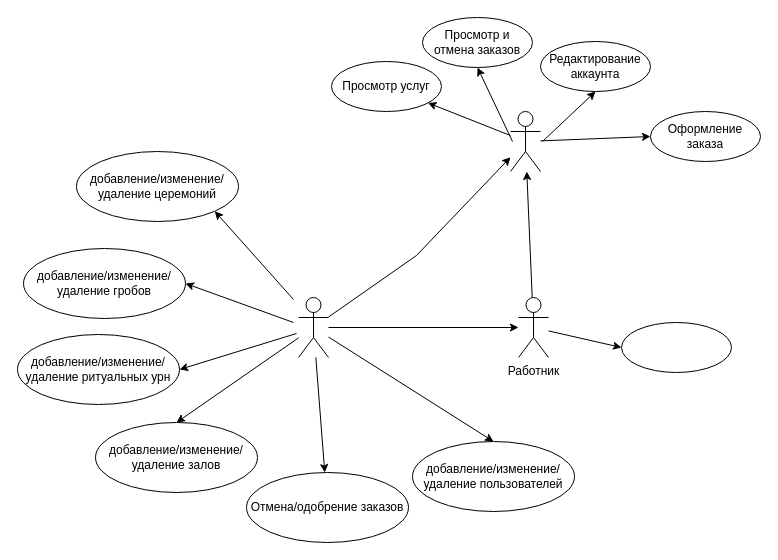
Image size: 778x560. Some labels were removed from this diagram. Here are the shapes that lost their labels. From the top down, the centre of each, then its label:
point 525,141: Пользователь
point 313,327: Администратор
point 676,347: Выполнение заказа
